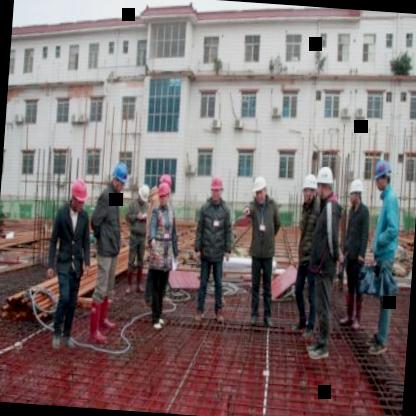helmet: (66, 176, 92, 217), (371, 156, 394, 196), (314, 164, 337, 204), (108, 160, 132, 196), (300, 171, 320, 209), (251, 174, 270, 208), (348, 174, 366, 208), (208, 172, 226, 204), (136, 182, 152, 208), (158, 172, 174, 194), (158, 182, 171, 208)
